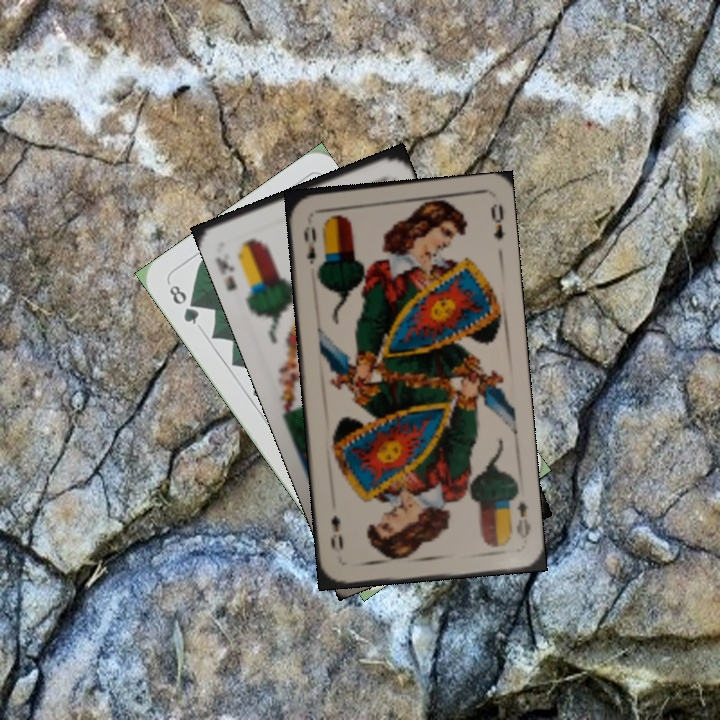EK: (211, 253, 239, 293)
EO: (512, 498, 534, 541), (300, 222, 319, 267)
G8: (164, 280, 202, 328)
